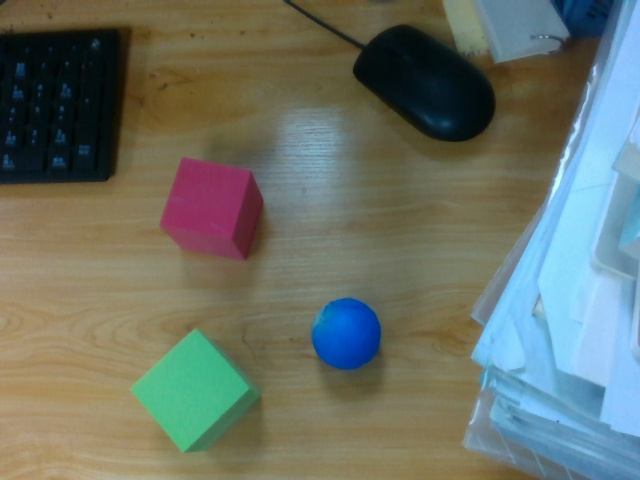blueball: (309, 292, 380, 368)
green: (126, 318, 263, 457)
red: (159, 149, 265, 261)
